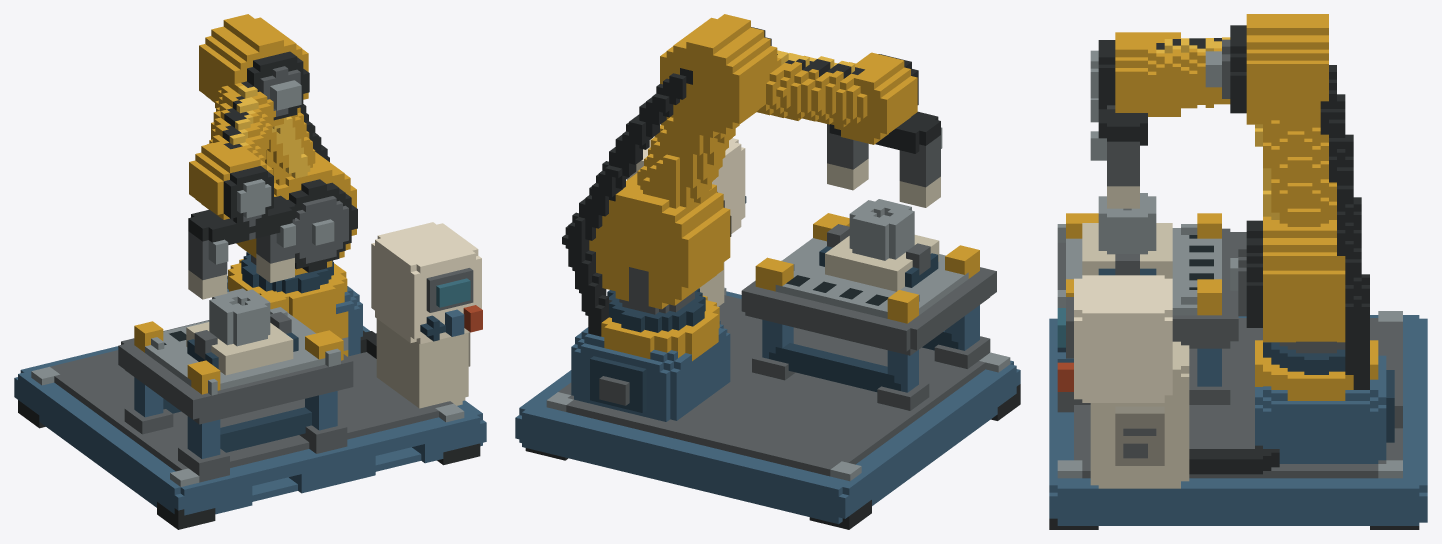
File: robot_workcell.glb
The picture shows the model from 3 angles, left to right: view 1: azimuth 30°, elevation 25°; view 2: azimuth 150°, elevation 25°; view 3: azimuth 270°, elevation 25°; orthographic projection. The views are drawn at different scales.
Visible parts, largest first — view 1: robot_workcell; view 2: robot_workcell; view 3: robot_workcell.
Part boxes in pixels (box(x1,y1,x2,y2)): robot_workcell: box(14, 14, 486, 529); robot_workcell: box(515, 14, 1020, 529); robot_workcell: box(1049, 14, 1427, 529).
Bounding box in the file's own units: 4.16 × 4.72 × 3.68.
